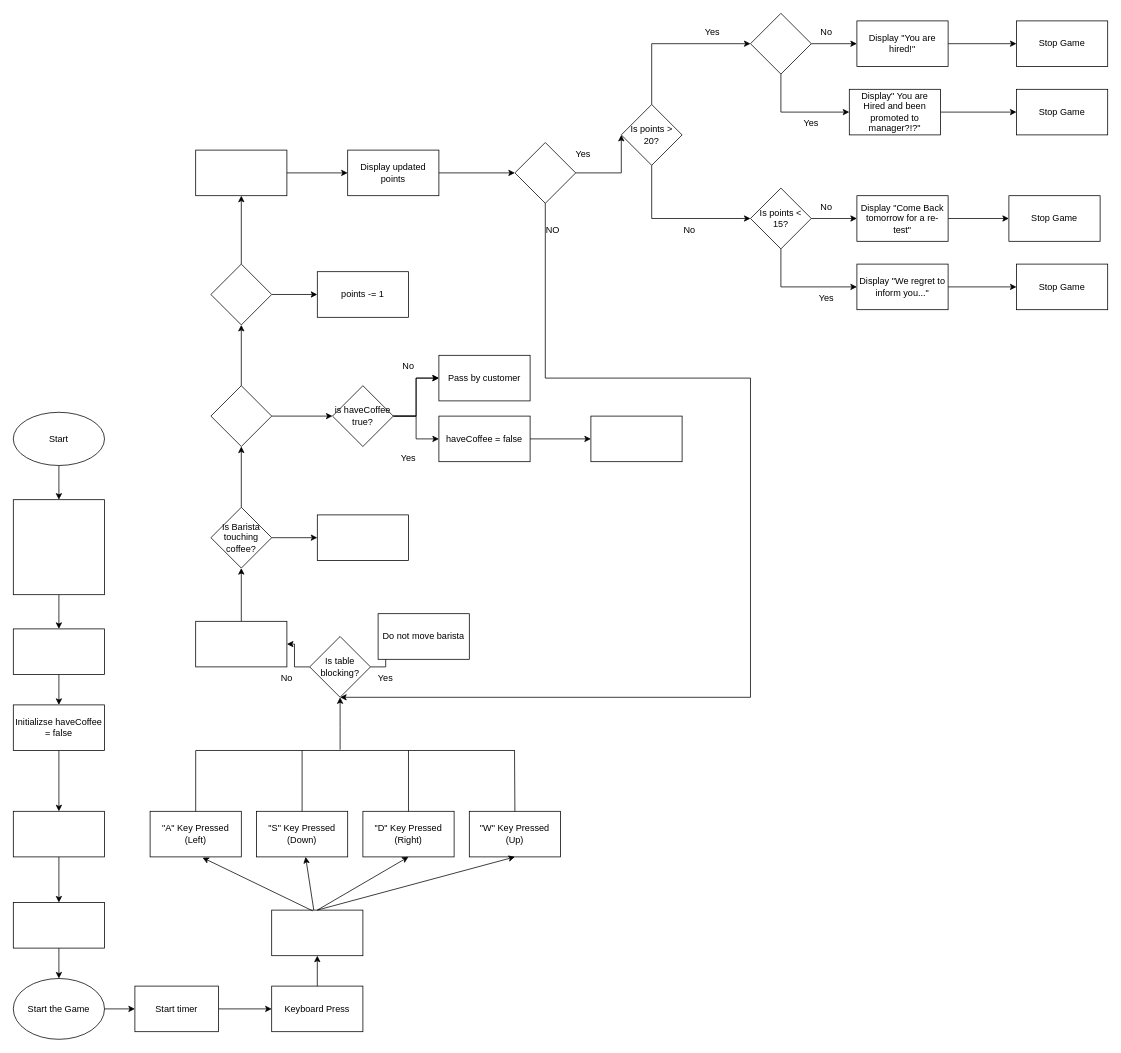
This 1121x1053 diagram has some shape labels left out. The shapes that lost their labels are listed below. From the top down, each one's centre as x and y in pixels, then its label:
pixel 780 43: Is points > 25?
pixel 241 172: continue
pixel 545 172: Has 60 second passed?
pixel 241 294: Is Barista touching spill?
pixel 241 415: Is Barista touching costumer?
pixel 636 438: Points += 1
pixel 58 547: Initialize (actors): tables customers barista coffee cups coffee spills
pixel 362 537: haveCoffee = true
pixel 58 651: Initialize points = 0
pixel 241 644: Move Barista
pixel 58 834: setTimer = 60 seconds
pixel 58 925: Display the points
pixel 317 932: Movement direction
